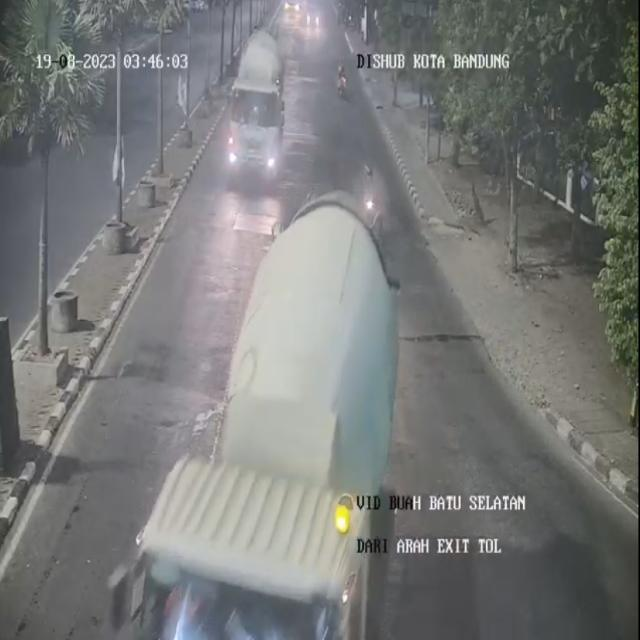motorcycle: (358, 162, 384, 237), (338, 62, 352, 104)
truck: (143, 193, 397, 639), (227, 28, 285, 185)
